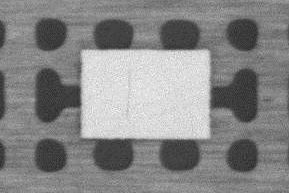DIE_CRACK: (121, 71, 134, 117)
